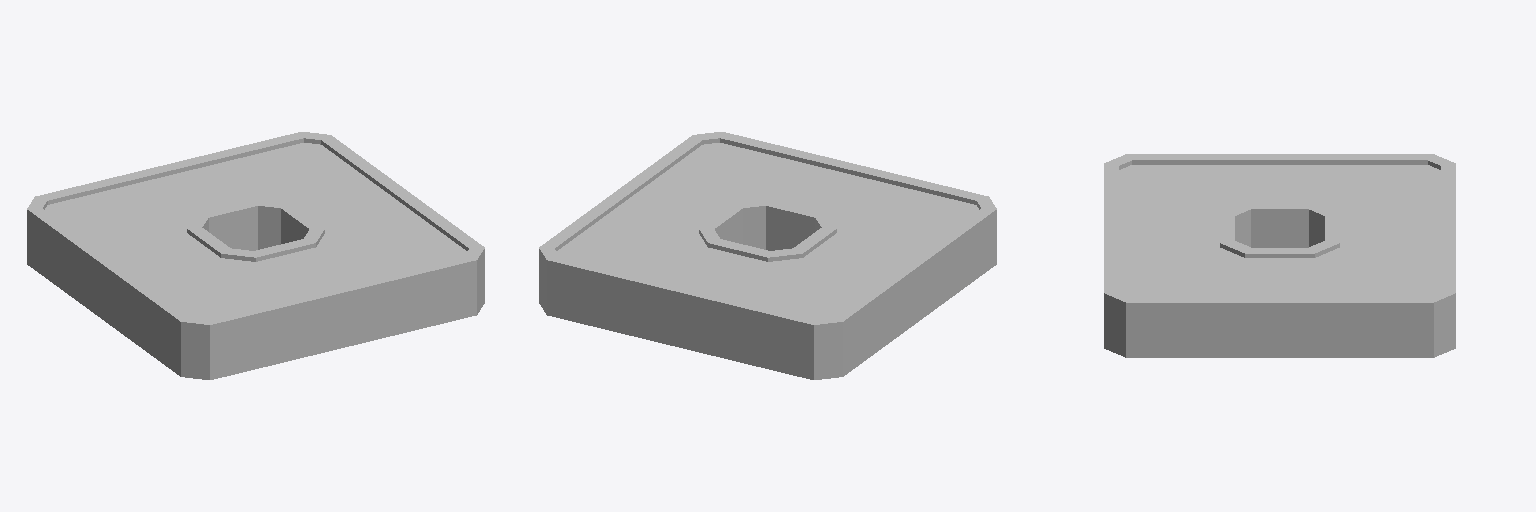
File: coin-8.obj
3 views of the same model, side by side, from view 1: azimuth 30°, elevation 25°; view 2: azimuth 150°, elevation 25°; view 3: azimuth 270°, elevation 25° (orthographic).
Visible parts, largest first — view 1: coin_Cylinder; view 2: coin_Cylinder; view 3: coin_Cylinder.
Part boxes in pixels (x1,y1,x2,y2): coin_Cylinder: (27, 132, 484, 379); coin_Cylinder: (539, 132, 996, 379); coin_Cylinder: (1104, 154, 1455, 357).
Bounding box in the file's own units: 16.26 × 2.82 × 16.26.